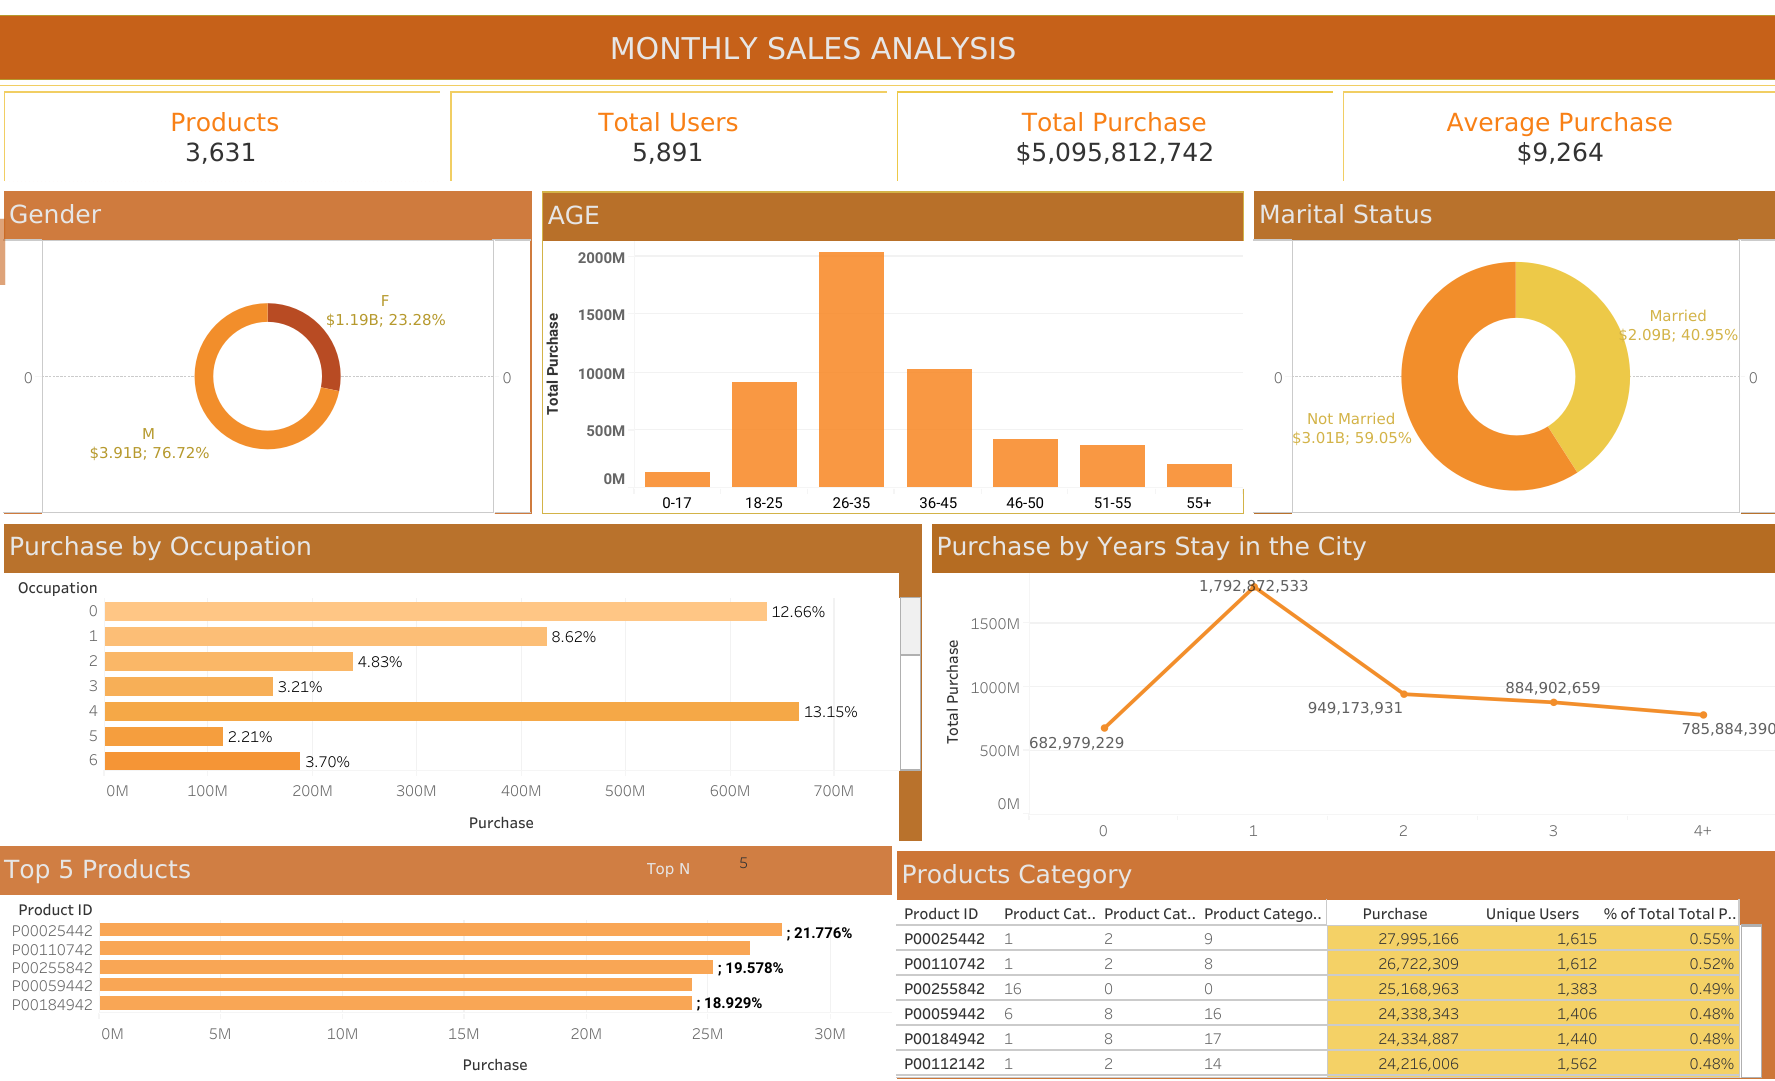

The dashboard page shown, as its layout file describes it:
{"tool":"tableau","page":{"name":"Dashboard 1","canvas":[1600,900],"ordinal":0},"visuals":[{"type":"title","box":[8,8,1584,71]},{"type":"filter","title":"Gender","param":"[federated.1osim7i1otc3o514ffla41oen6wd].[none:City_Category:nk]","box":[1431,13,153,163]},{"type":"worksheet","title":"Total Purchase","mark":"Text","box":[1106,77,325,92]},{"type":"worksheet","title":"Total Users","mark":"Automatic","box":[120,78,191,88]},{"type":"legend","title":"Age","param":"[federated.1osim7i1otc3o514ffla41oen6wd].[none:Age:nk]","box":[9,80,30,24]},{"type":"worksheet","title":"Average Purchase","mark":"Automatic","box":[677,80,359,87]},{"type":"worksheet","title":"Total Products","mark":"Automatic","box":[415,81,178,87]},{"type":"worksheet","title":"Gender","mark":"Pie","rows":["Calculation_2356790023357685776","Calculation_2356790023357685776"],"box":[41,164,382,280]},{"type":"worksheet","title":"Age","mark":"Automatic","rows":["Calculation_2356790022985093123"],"cols":["Age"],"box":[423,164,741,280]},{"type":"worksheet","title":"marital status","mark":"Pie","rows":["Calculation_2356790023361867794","Calculation_2356790023361867794"],"box":[1164,164,427,280]},{"type":"worksheet","title":"Occupation","mark":"Automatic","rows":["Occupation"],"cols":["Purchase"],"box":[41,444,685,247]},{"type":"worksheet","title":"stay in city","mark":"Line","rows":["Calculation_2356790022985093123"],"cols":["Stay_In_Current_City_Years"],"box":[726,444,864.9,247]},{"type":"worksheet","title":"Products","mark":"Automatic","rows":["Product_ID"],"cols":["Purchase"],"box":[41,691,744,190]},{"type":"worksheet","title":"Product Category","mark":"Square","rows":["Product_ID","Product_Category_1","Product_Category_2","Product_Category_3"],"box":[785,691,806,190]},{"type":"parameter","param":"[Parameters].[Parameter 1]","box":[609,697,147,33]}]}

Visuals, with their boxes on the page's 1600x900 design canvas (x1, y1, x2, y2). These are canvas units, not pixel positions in the 1775x1081 screenshot, which may show the page scaled, cropped or inside an application window:
title: <bbox>8, 8, 1592, 79</bbox>
"Gender" filter: <bbox>1431, 13, 1584, 176</bbox>
"Total Purchase" worksheet (Text marks): <bbox>1106, 77, 1431, 169</bbox>
"Total Users" worksheet: <bbox>120, 78, 311, 166</bbox>
"Age" legend: <bbox>9, 80, 39, 104</bbox>
"Average Purchase" worksheet: <bbox>677, 80, 1036, 167</bbox>
"Total Products" worksheet: <bbox>415, 81, 593, 168</bbox>
"Gender" worksheet (Pie marks): <bbox>41, 164, 423, 444</bbox>
"Age" worksheet: <bbox>423, 164, 1164, 444</bbox>
"marital status" worksheet (Pie marks): <bbox>1164, 164, 1591, 444</bbox>
"Occupation" worksheet: <bbox>41, 444, 726, 691</bbox>
"stay in city" worksheet (Line marks): <bbox>726, 444, 1591, 691</bbox>
"Products" worksheet: <bbox>41, 691, 785, 881</bbox>
"Product Category" worksheet (Square marks): <bbox>785, 691, 1591, 881</bbox>
parameter: <bbox>609, 697, 756, 730</bbox>
